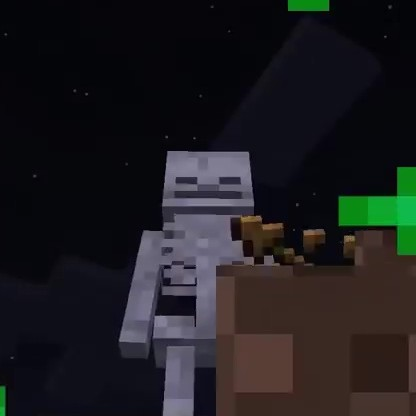skeleton: (139, 148, 271, 258)
